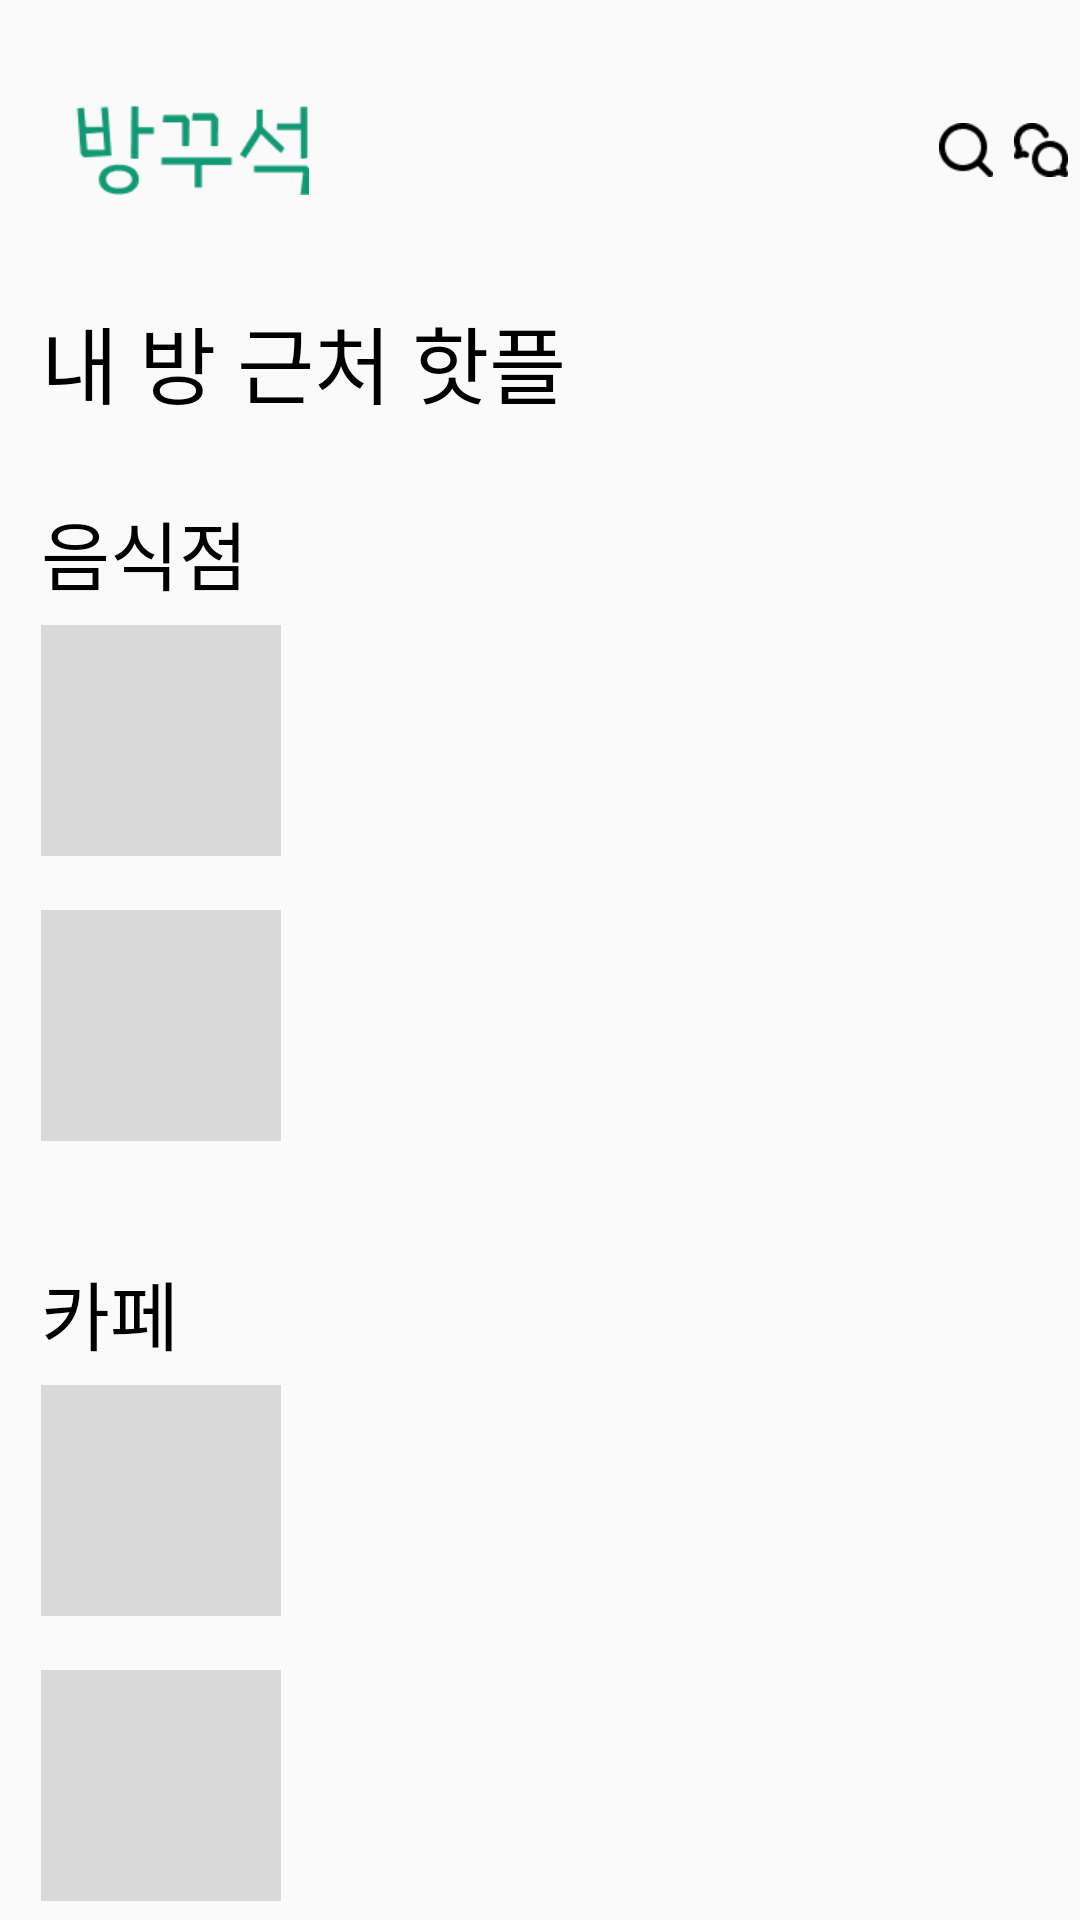

Named icons in this screenshot (1080w x 1920h) and their centers, [x,y]:
chat: [1041,150]
search: [966,150]
